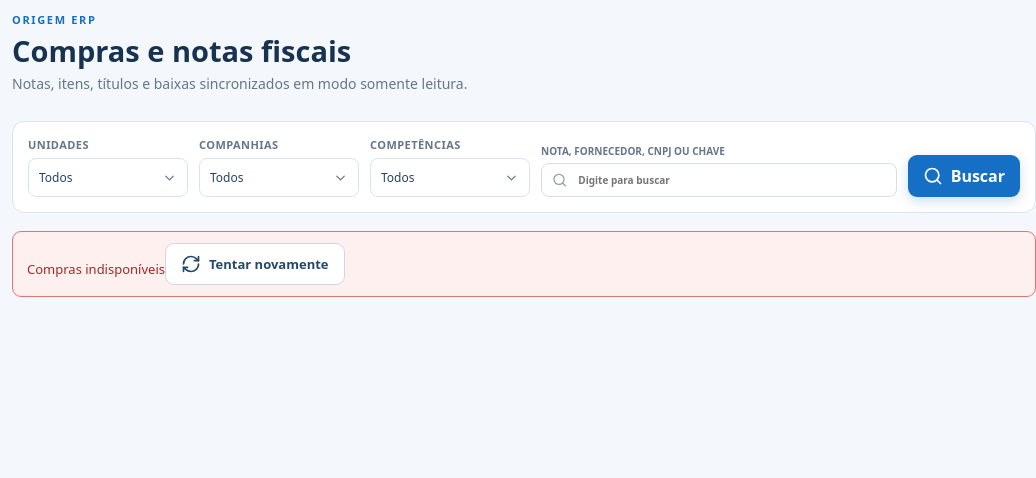
Scenario: recoverable page loading › shows a purchases error and retries
The width and height of the screenshot is (1036, 478).
Expected: the text "Compras indisponíveis" is shown, [27,260,165,278]
Click the button "Tentar novamente".
click(255, 264)  # box [165,243,344,285]
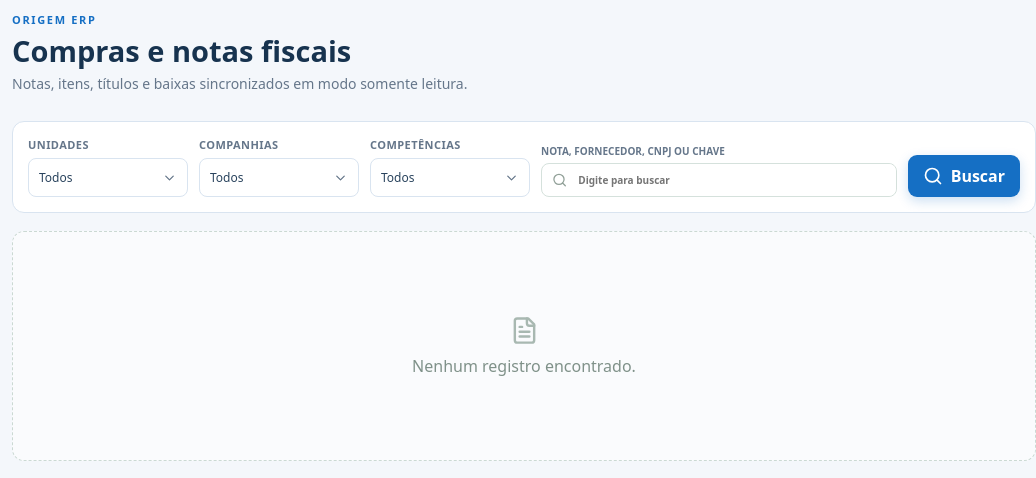
Now the text "Nenhum registro encontrado." is shown, box [12,231,1035,461]
